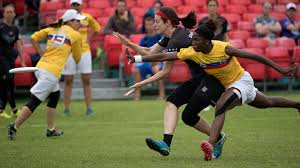disc: (6, 68, 41, 73)
